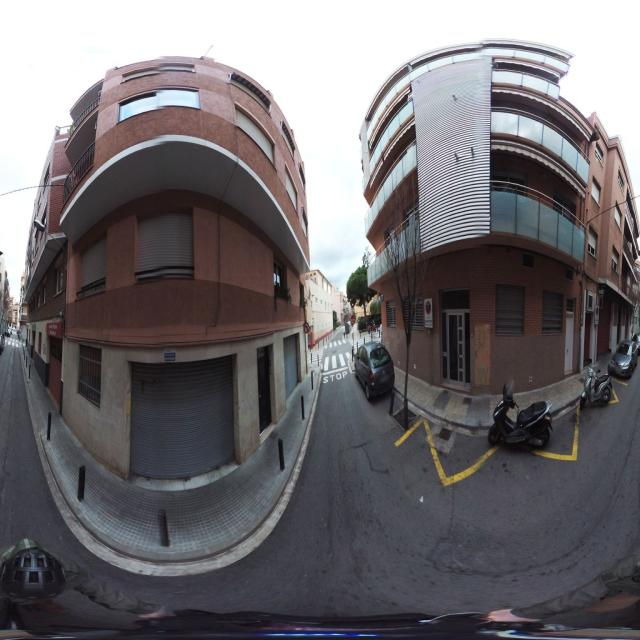forb_stopping: (596, 307, 598, 316)
